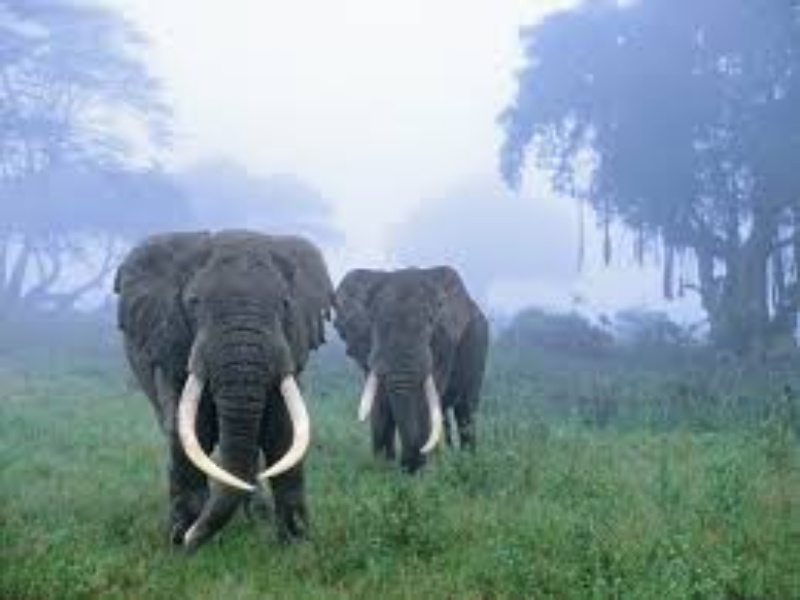elephant: (107, 216, 504, 558)
